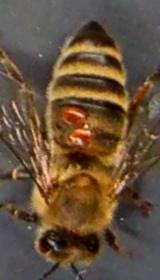varroa_mite: (52, 104, 94, 128), (64, 128, 101, 150)
